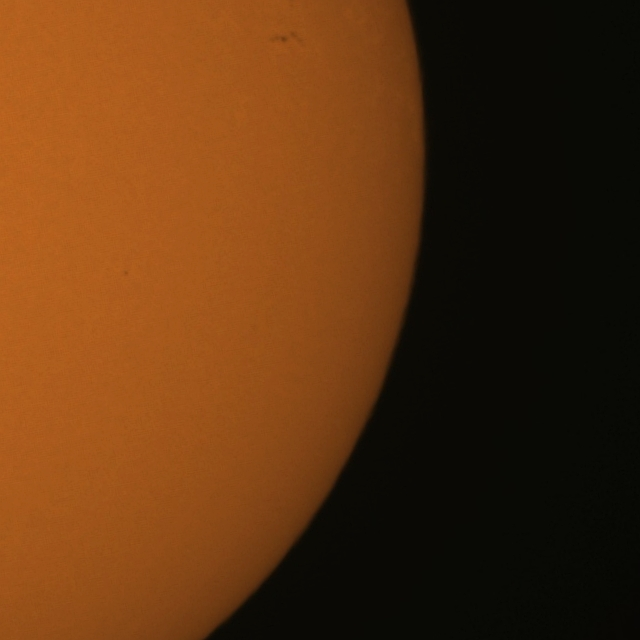sunspot: (269, 30, 304, 47)
